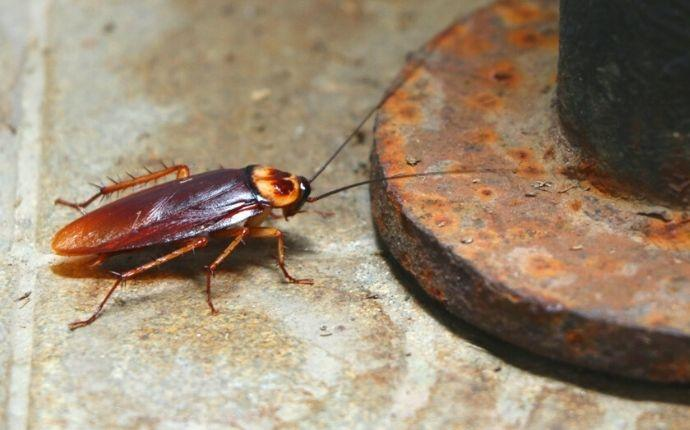cockroach: (50, 161, 318, 277)
